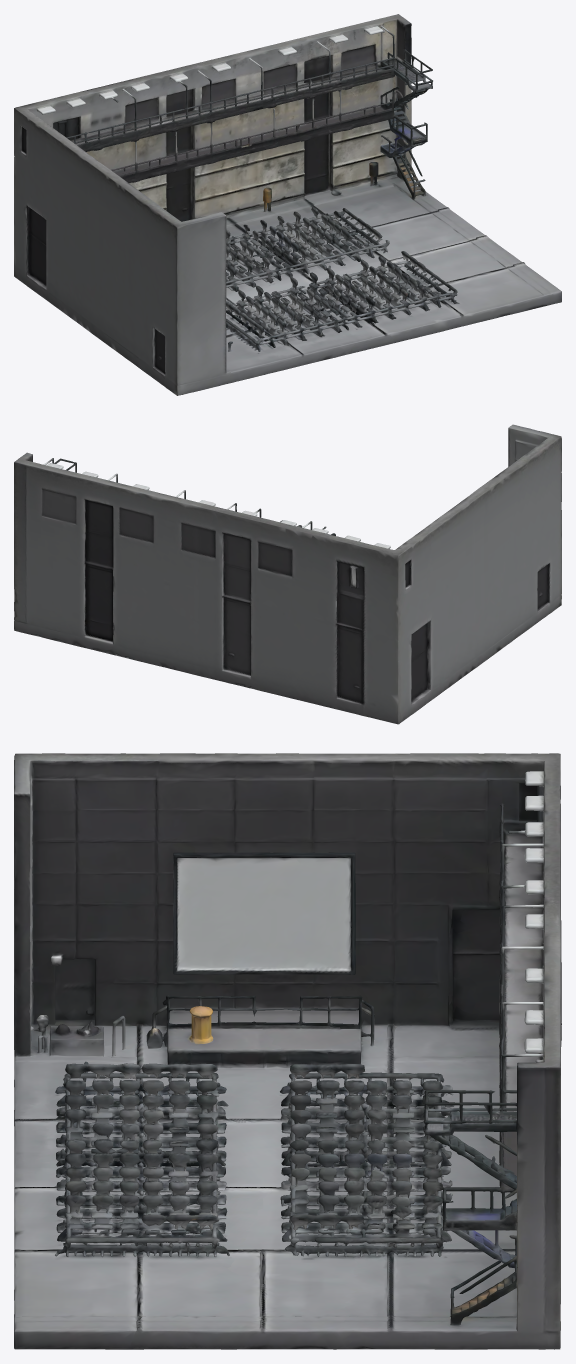
Rendered from konverents.glb.
3 renders of one model, top to bottom at view 1: azimuth 30°, elevation 25°; view 2: azimuth 150°, elevation 25°; view 3: azimuth 270°, elevation 25°, orthographic. The views are drawn at different scales.
Visible parts, largest first — view 1: tripo_node_f5dbc8f8-308a-4bfa-ae30-c5bb82e0f2db; view 2: tripo_node_f5dbc8f8-308a-4bfa-ae30-c5bb82e0f2db; view 3: tripo_node_f5dbc8f8-308a-4bfa-ae30-c5bb82e0f2db.
Part boxes in pixels (x1=…): tripo_node_f5dbc8f8-308a-4bfa-ae30-c5bb82e0f2db: x1=14, y1=14, x2=561, y2=395; tripo_node_f5dbc8f8-308a-4bfa-ae30-c5bb82e0f2db: x1=14, y1=424, x2=561, y2=724; tripo_node_f5dbc8f8-308a-4bfa-ae30-c5bb82e0f2db: x1=14, y1=753, x2=561, y2=1349.
Size of the model in its own units: 1 by 0.42 by 0.7368.
1 material, 1 textured.
